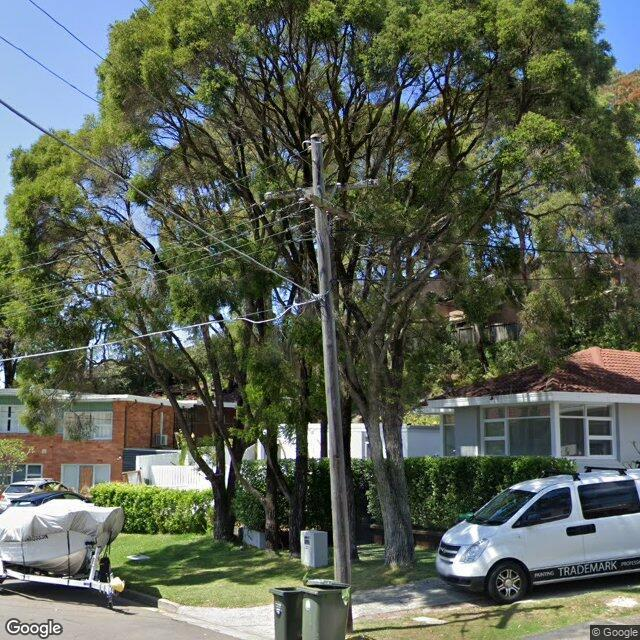crossarm: (263, 177, 382, 200), (297, 188, 358, 226)
timber-pole: (308, 133, 354, 631)
